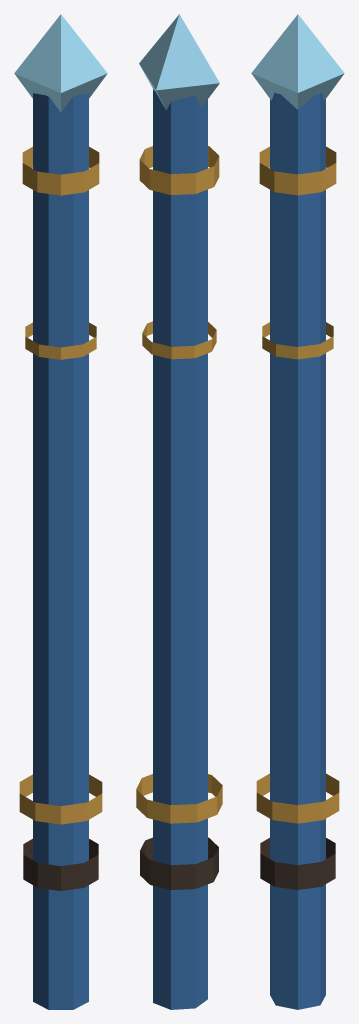
Rendered from custom_broom_cabo_moon.obj.
3 views of the same model, side by side, from view 1: azimuth 90°, elevation 25°; view 2: azimuth 150°, elevation 25°; view 3: azimuth 270°, elevation 25° (orthographic).
Bounding box in the file's own units: 0.17 × 1.97 × 0.17.
